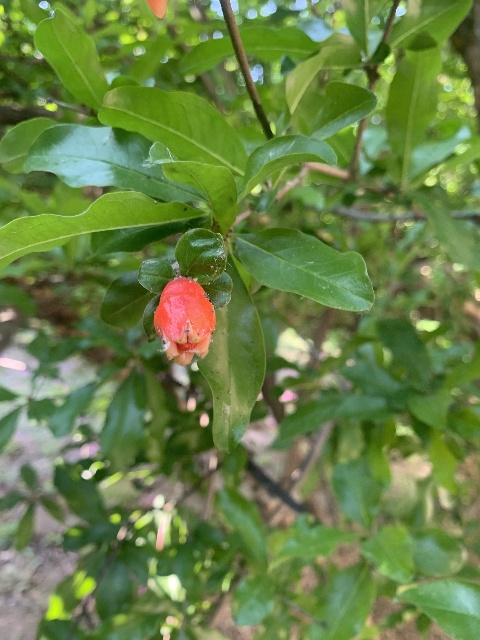flower: (153, 276, 216, 366)
